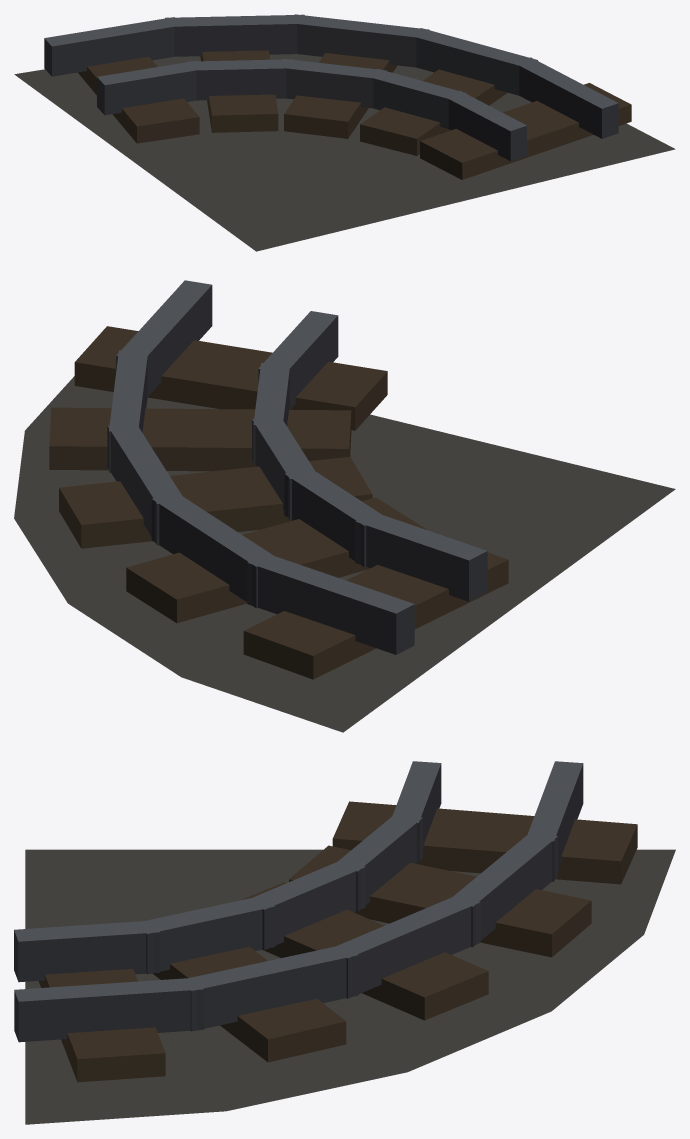
File: rail-curve.glb
3 views of the same model, one above another, from view 1: azimuth 30°, elevation 25°; view 2: azimuth 150°, elevation 25°; view 3: azimuth 270°, elevation 25° (orthographic). The views are drawn at different scales.
Parts seen in each view (by area): view 1: RailCurve; view 2: RailCurve; view 3: RailCurve.
Part boxes in pixels (x1,y1,x2,y2): RailCurve: (14, 14, 675, 251); RailCurve: (14, 280, 675, 732); RailCurve: (14, 761, 675, 1124).
Size of the model in its own units: 1.04 by 0.145 by 1.04.
1 material, 1 textured.
